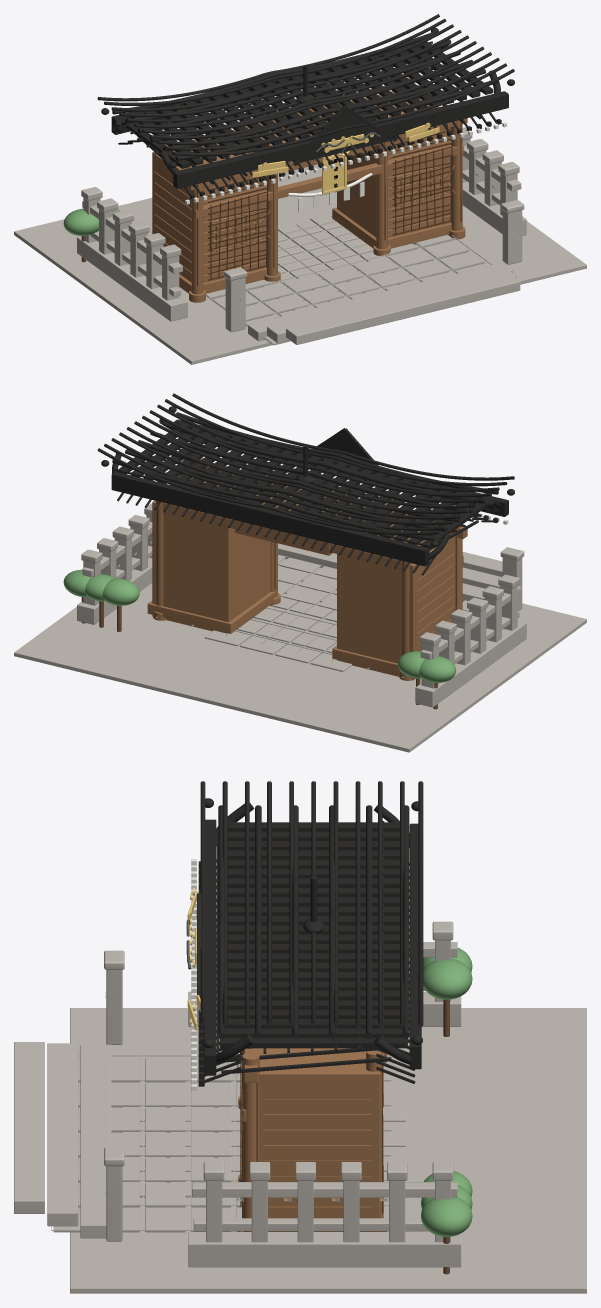
File: shibata_suwa_shrine_gate.glb
The picture shows the model from 3 angles, top to bottom: view 1: azimuth 30°, elevation 25°; view 2: azimuth 150°, elevation 25°; view 3: azimuth 270°, elevation 25°; orthographic projection. The views are drawn at different scales.
Parts seen in each view (by area): view 1: SSG1_Ground, SSG1_LeftWoodWall, SSG1_FrontStep_2, SSG1_FrontEaveLong, SSG1_RightWoodWall, SSG1_MiddleBeam, SSG2_LeftStoneFenceBase, SSG1_FrontStep_0, SSG1_FrontStep_1, SSG1_FrontGable, SSG1_CurvedRoofRib_3, SSG2_ExtraCurvedRoofLine_4 (+56 smaller); view 2: SSG1_Ground, SSG1_RightWoodWall, SSG1_LeftWoodWall, SSG1_BackEaveLong, SSG2_LeftStoneFenceBase, SSG1_RightBaseWood, SSG1_CurvedRoofRib_5, SSG1_CurvedRoofRib_2, SSG1_CurvedRoofRib_4, SSG2_ExtraCurvedRoofLine_10, SSG1_CurvedRoofRib_1, SSG2_ExtraCurvedRoofLine_8 (+46 smaller); view 3: SSG1_Ground, SSG1_RightWoodWall, SSG1_RightStoneFenceBase, SSG1_FrontStep_1, SSG1_FrontStep_0, SSG1_FrontStep_2, SSG1_FrontEaveLong, SSG1_RightStoneFenceRailTop, SSG1_BackEaveLong, SSG1_RightStoneFenceRailLow, SSG1_MainPillar_3, SSG1_RoofTileStrip_23 (+65 smaller).
Boxes of the visible parts, x1,y1,x2,y2 form: SSG1_Ground: (14, 164, 586, 364); SSG1_LeftWoodWall: (152, 143, 266, 282); SSG1_FrontStep_2: (286, 274, 520, 344); SSG1_FrontEaveLong: (173, 91, 508, 188); SSG1_RightWoodWall: (337, 98, 450, 244); SSG1_MiddleBeam: (194, 145, 463, 218); SSG2_LeftStoneFenceBase: (77, 236, 187, 321); SSG1_FrontStep_0: (248, 262, 512, 341); SSG1_FrontStep_1: (267, 268, 516, 343); SSG1_FrontGable: (299, 109, 391, 162); SSG1_CurvedRoofRib_3: (137, 52, 460, 132); SSG2_ExtraCurvedRoofLine_4: (142, 46, 484, 133); SSG1_Ground: (14, 559, 586, 752); SSG1_RightWoodWall: (152, 477, 270, 633); SSG1_LeftWoodWall: (337, 524, 454, 680); SSG1_BackEaveLong: (111, 471, 429, 566); SSG2_LeftStoneFenceBase: (415, 621, 526, 707); SSG1_RightBaseWood: (147, 592, 275, 633); SSG1_CurvedRoofRib_5: (112, 459, 435, 540); SSG1_CurvedRoofRib_2: (150, 432, 473, 513); SSG1_CurvedRoofRib_4: (125, 449, 447, 531); SSG2_ExtraCurvedRoofLine_10: (97, 448, 439, 535); SSG1_CurvedRoofRib_1: (163, 421, 485, 503); SSG2_ExtraCurvedRoofLine_8: (111, 438, 453, 525); SSG1_Ground: (70, 1008, 586, 1293); SSG1_RightWoodWall: (257, 1048, 380, 1218); SSG1_RightStoneFenceBase: (188, 1232, 461, 1267); SSG1_FrontStep_1: (47, 1043, 78, 1226); SSG1_FrontStep_0: (80, 1044, 111, 1238); SSG1_FrontStep_2: (14, 1042, 44, 1213); SSG1_FrontEaveLong: (204, 819, 216, 1075); SSG1_RightStoneFenceRailTop: (192, 1182, 457, 1197); SSG1_BackEaveLong: (409, 823, 421, 1069); SSG1_RightStoneFenceRailLow: (193, 1218, 428, 1231); SSG1_MainPillar_3: (242, 1052, 259, 1231); SSG1_RoofTileStrip_23: (219, 1037, 407, 1048).
Size of the model in its own units: 9 by 4.13 by 7.76.
